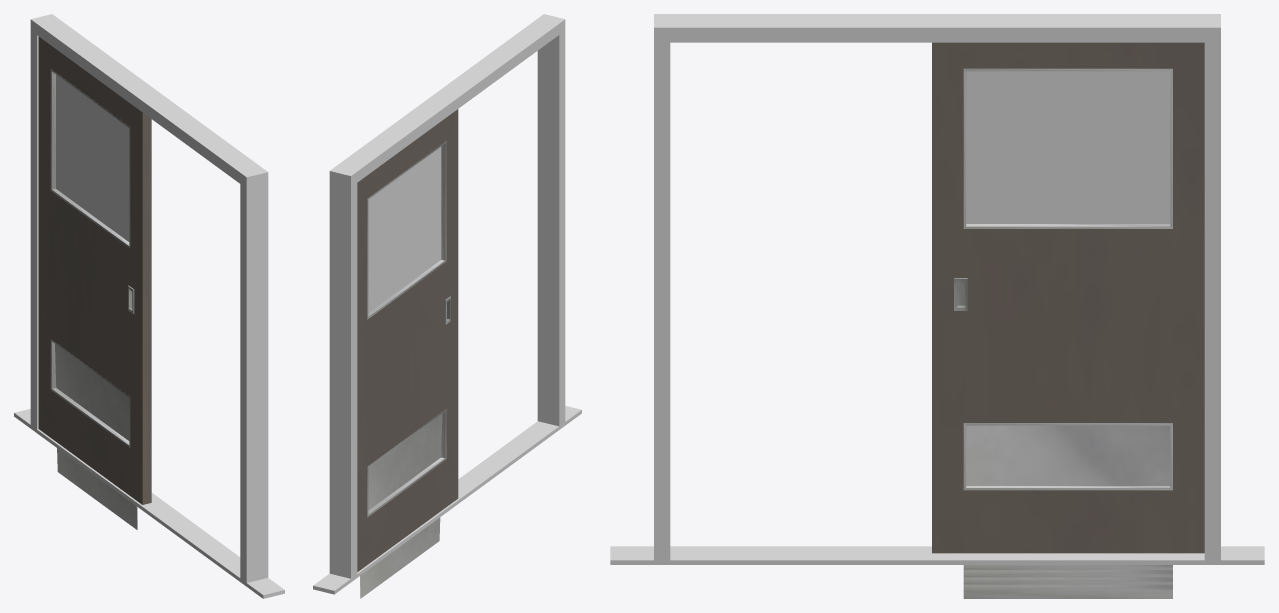
File: door_and_frame_wt.fbx
3 views of the same model, side by side, from view 1: azimuth 30°, elevation 25°; view 2: azimuth 150°, elevation 25°; view 3: azimuth 270°, elevation 25° (orthographic). The views are drawn at different scales.
Parts seen in each view (by area): view 1: Door, Frame left, Glass pane, Frame top, grill fins, Frame Floor, Frame right, frame s1, Grill b, Frame b; view 2: Door, Frame right, Frame left, Glass pane, Frame top, grill fins, Frame Floor, frame s2, Grill b, Frame b; view 3: Door, Glass pane, Frame top, grill fins.007, Frame Floor, Frame right, Frame left, grill fins, grill fins.001, grill fins.002, grill fins.003, Frame b (+1 smaller).
Boxes of the visible parts, bbox=[...] form: Door: bbox=[38, 37, 151, 504]; Frame left: bbox=[240, 173, 268, 583]; Glass pane: bbox=[56, 74, 129, 241]; Frame top: bbox=[30, 18, 268, 188]; grill fins: bbox=[55, 344, 137, 529]; Frame Floor: bbox=[14, 409, 284, 598]; Frame right: bbox=[30, 14, 57, 429]; frame s1: bbox=[50, 71, 55, 189]; Grill b: bbox=[50, 388, 129, 446]; Frame b: bbox=[50, 188, 130, 248]; Door: bbox=[357, 109, 458, 571]; Frame right: bbox=[329, 166, 357, 578]; Frame left: bbox=[537, 19, 565, 426]; Glass pane: bbox=[368, 147, 441, 312]; Frame top: bbox=[336, 14, 565, 186]; grill fins: bbox=[360, 414, 442, 598]; Frame Floor: bbox=[313, 406, 581, 594]; frame s2: bbox=[441, 143, 446, 261]; Grill b: bbox=[367, 457, 446, 517]; Frame b: bbox=[367, 260, 445, 319]; Door: bbox=[932, 42, 1204, 553]; Glass pane: bbox=[966, 71, 1170, 223]; Frame top: bbox=[654, 14, 1220, 42]; grill fins.007: bbox=[966, 425, 1170, 485]; Frame Floor: bbox=[610, 546, 1264, 564]; Frame right: bbox=[1204, 14, 1220, 560]; Frame left: bbox=[654, 27, 670, 560]; grill fins: bbox=[963, 584, 1172, 598]; grill fins.001: bbox=[963, 577, 1172, 584]; grill fins.002: bbox=[963, 570, 1172, 577]; grill fins.003: bbox=[963, 565, 1172, 569]; Frame b: bbox=[963, 224, 1172, 228].
Size of the model in its own units: 12 by 235 by 240.
Materials: 16 (15 with a texture image).
